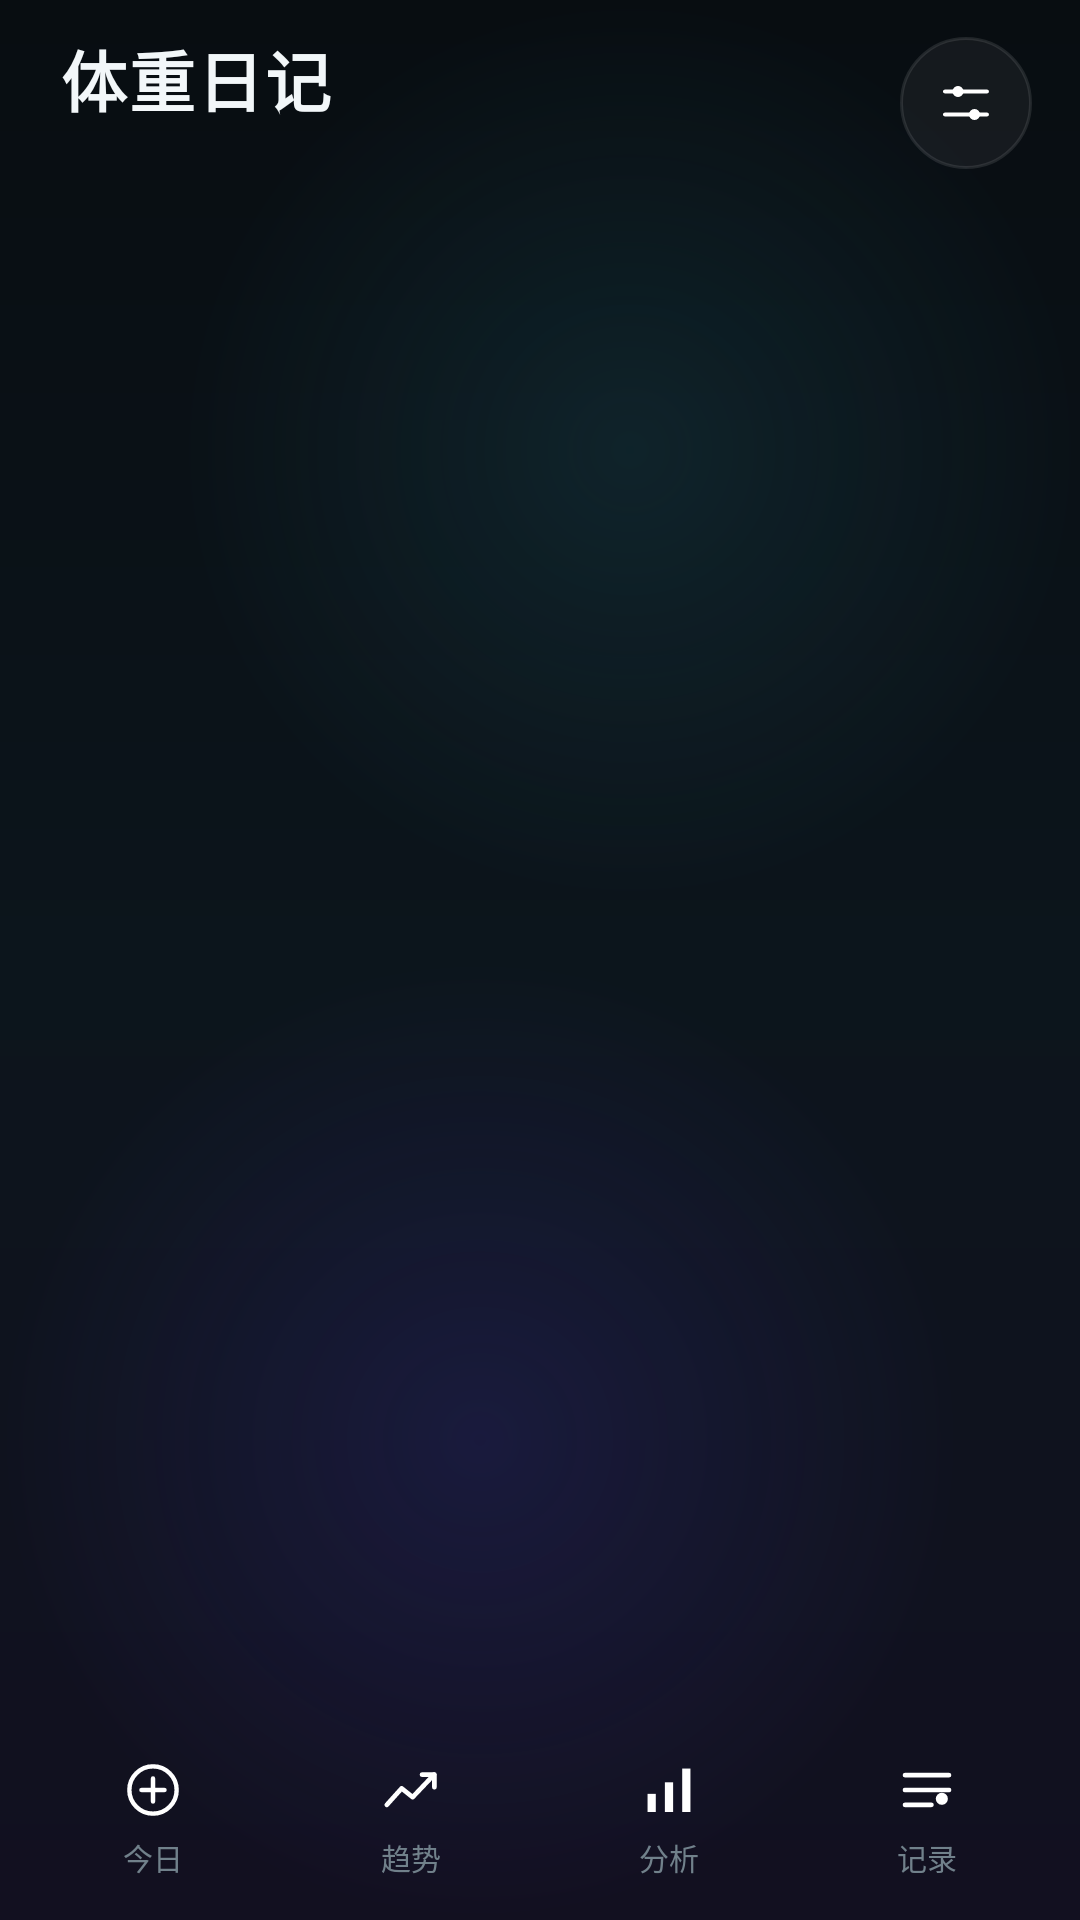

Icon bounding boxes for this 1080×1920 phone screenshot, format (x1, y1, x2, y2):
设置: (943, 86, 989, 120)
